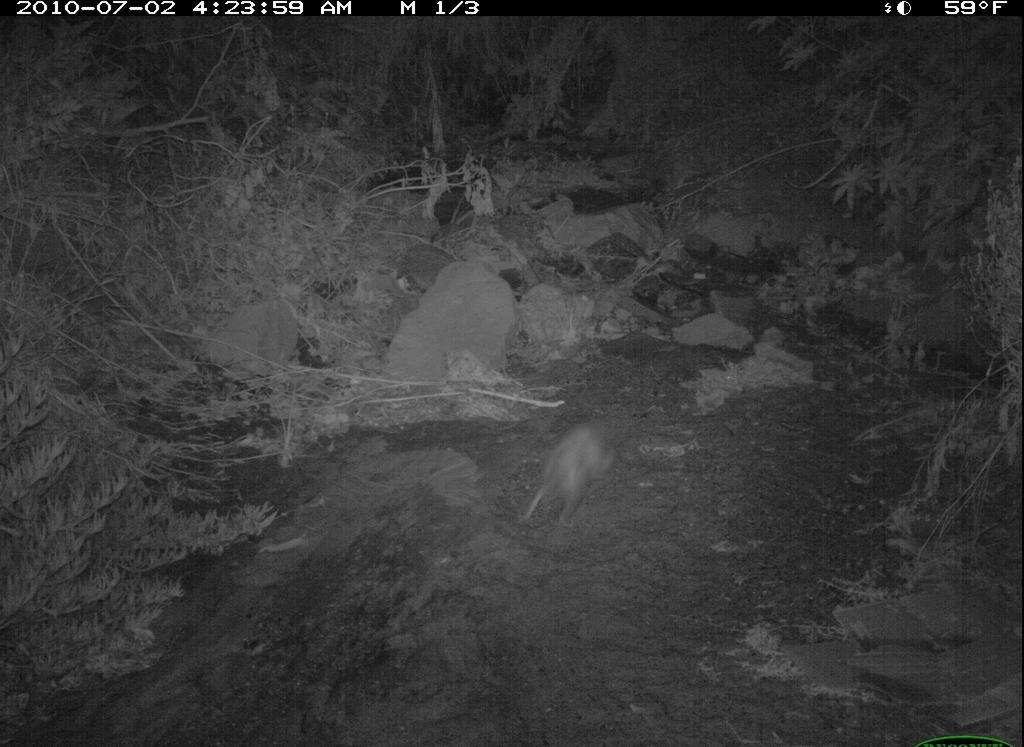opossum: (515, 395, 642, 545)
